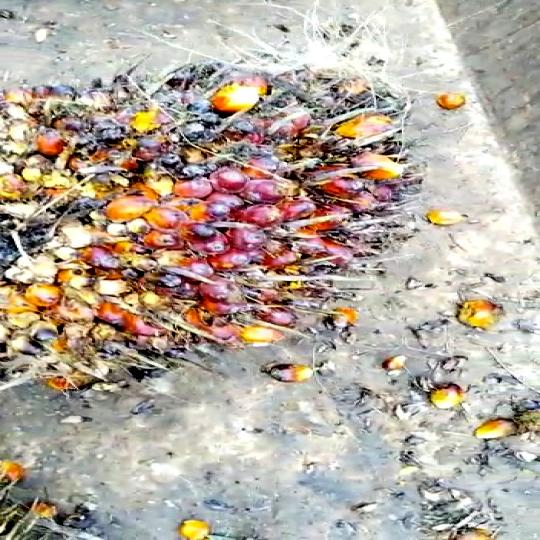masak: (0, 49, 497, 433)
